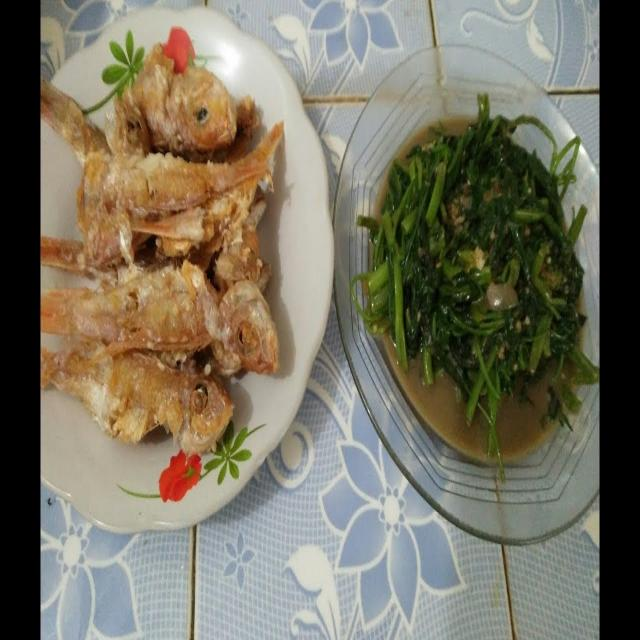ikan goreng: (40, 262, 282, 382), (76, 142, 300, 266), (44, 339, 238, 464), (116, 47, 262, 156)
kangkung: (377, 125, 587, 404)
